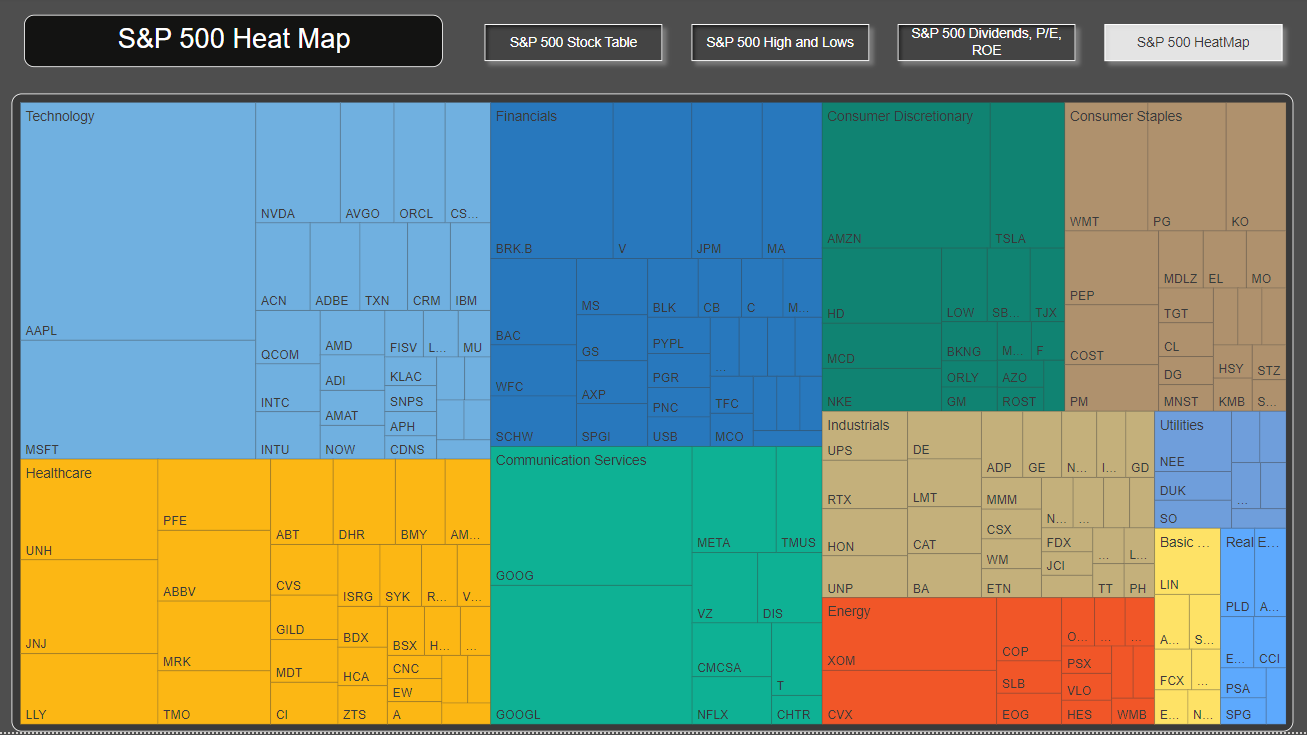

The page's visual inventory and layout, read from the dashboard file:
{"tool":"powerbi","page":{"name":"S&P 500 HeatMap","canvas":[1280,720],"ordinal":3},"visuals":[{"type":"treemap","fields":{"Group":["S&P 500 Companies.Sector"],"Details":["S&P 500 Companies.Stock Symbol"],"Values":["Sum(S&P 500 Companies.Market Cap (USD) - Copy.1)"]},"box":[12.5,95.9,1253.9,624.2],"z":0},{"type":"pageNavigator","box":[465.9,18.7,799.2,54.4],"z":1000},{"type":"textbox","box":[24.4,18.3,409.5,51.3],"z":2000}]}

Visuals, with their boxes in screenshot pixels (x1, y1, x2, y2), scaled from the page's 1280x720 canvas onto the 1307x735 screenshot:
treemap - S&P 500 Companies.Sector x S&P 500 Companies.Stock Symbol: crop(13, 98, 1293, 734)
pageNavigator: crop(476, 19, 1292, 75)
textbox: crop(25, 19, 443, 71)
